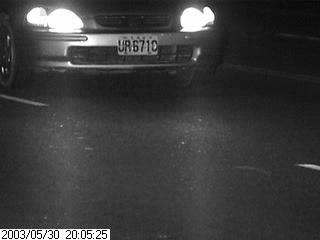plate: (116, 33, 160, 59)
